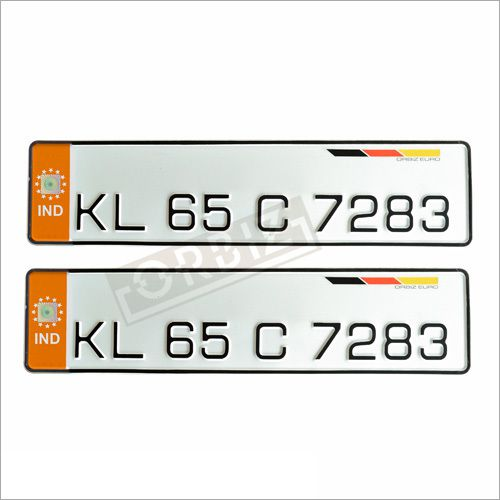number_plate: (24, 267, 473, 377), (27, 139, 474, 246)
